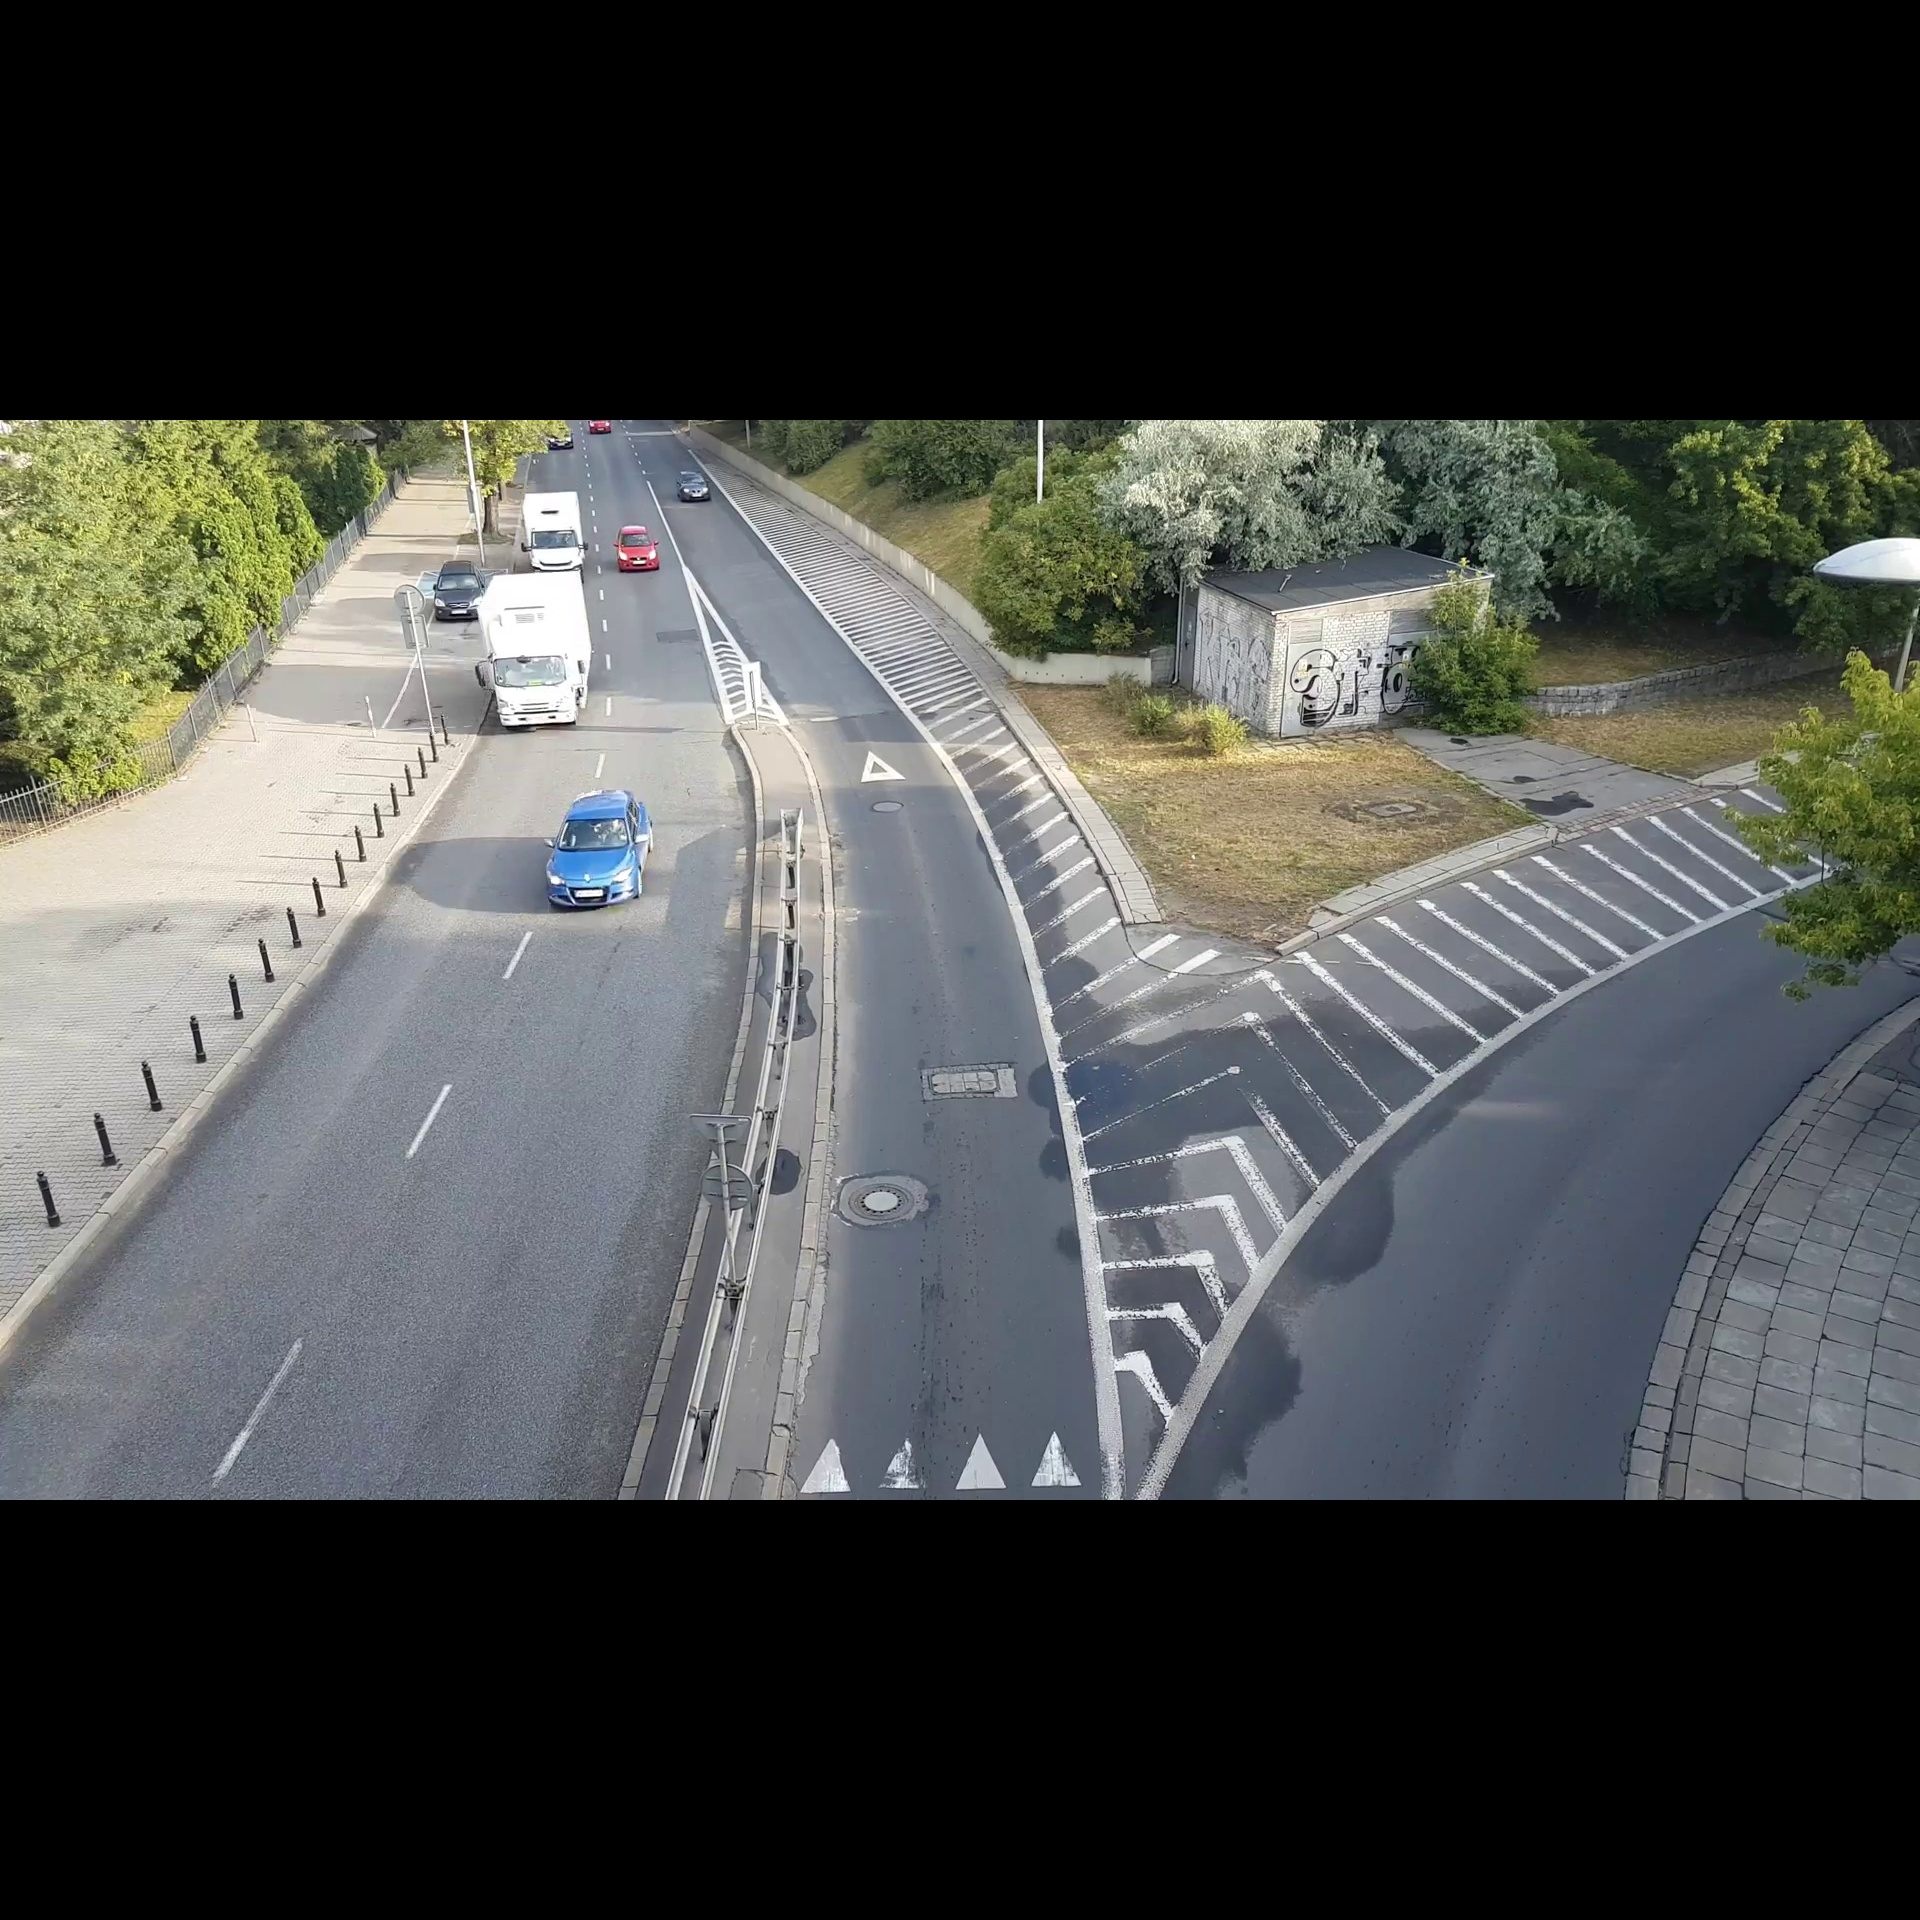vehicle: (466, 564, 601, 737), (536, 781, 658, 918), (517, 489, 593, 571), (427, 554, 484, 629), (607, 524, 666, 582), (675, 462, 710, 505), (547, 425, 577, 452), (587, 420, 612, 434)
